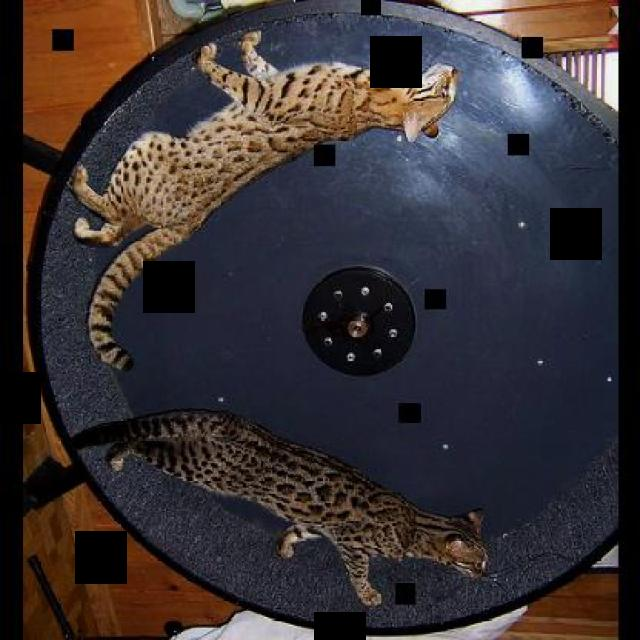unauthorized: (66, 28, 459, 370), (68, 406, 489, 608)
